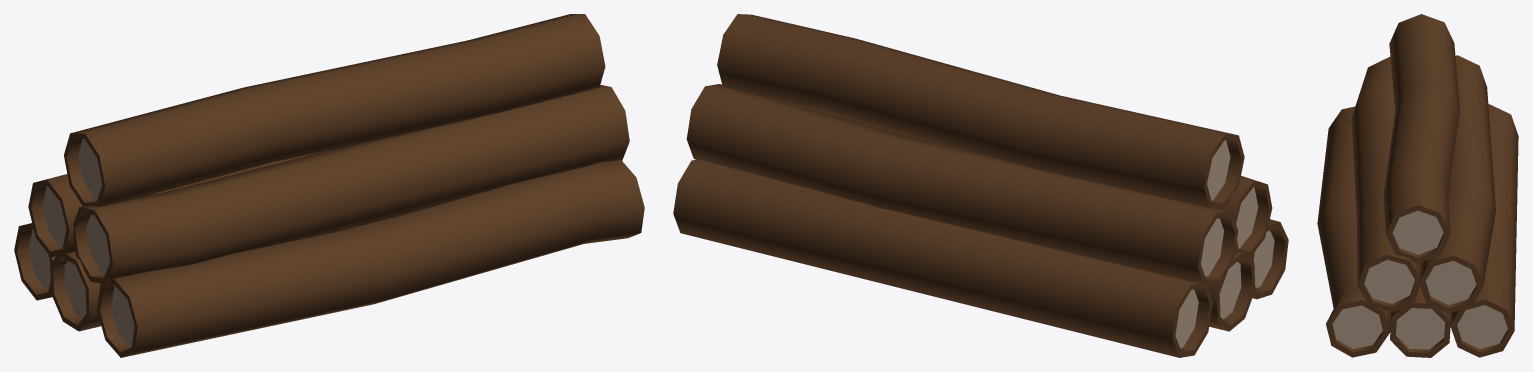
Rendered from logs.fbx.
3 views of the same model, side by side, from view 1: azimuth 30°, elevation 25°; view 2: azimuth 150°, elevation 25°; view 3: azimuth 270°, elevation 25° (orthographic). The views are drawn at different scales.
Parts seen in each view (by area): view 1: logs; view 2: logs; view 3: logs.
Boxes of the visible parts, x1,y1,x2,y2 form: logs: (14,14,644,357); logs: (673,14,1288,357); logs: (1317,14,1518,357).
Size of the model in its own units: 354 by 126 by 150.
